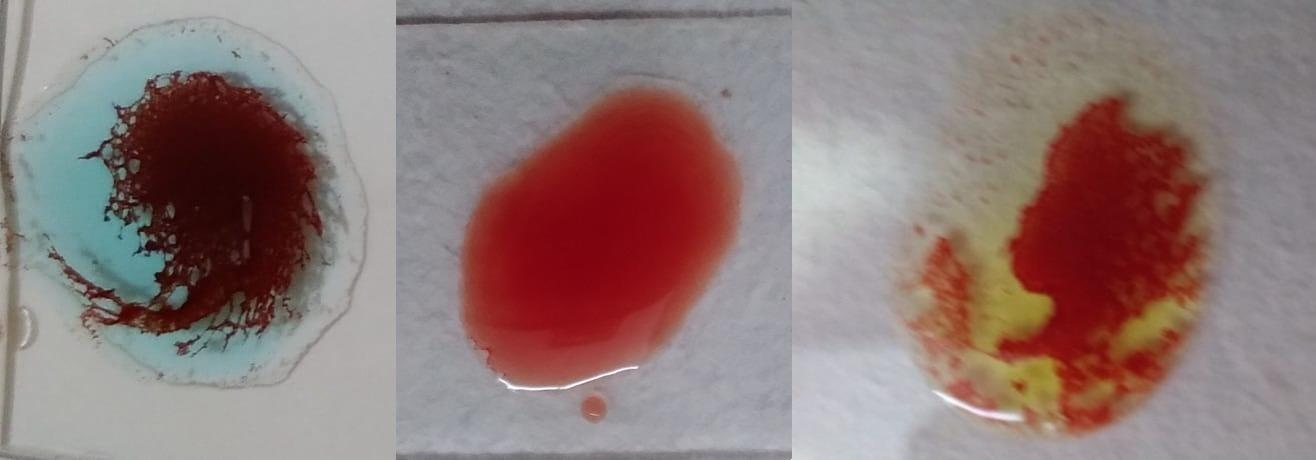A: (30, 13, 352, 375)
B: (899, 15, 1210, 438)
